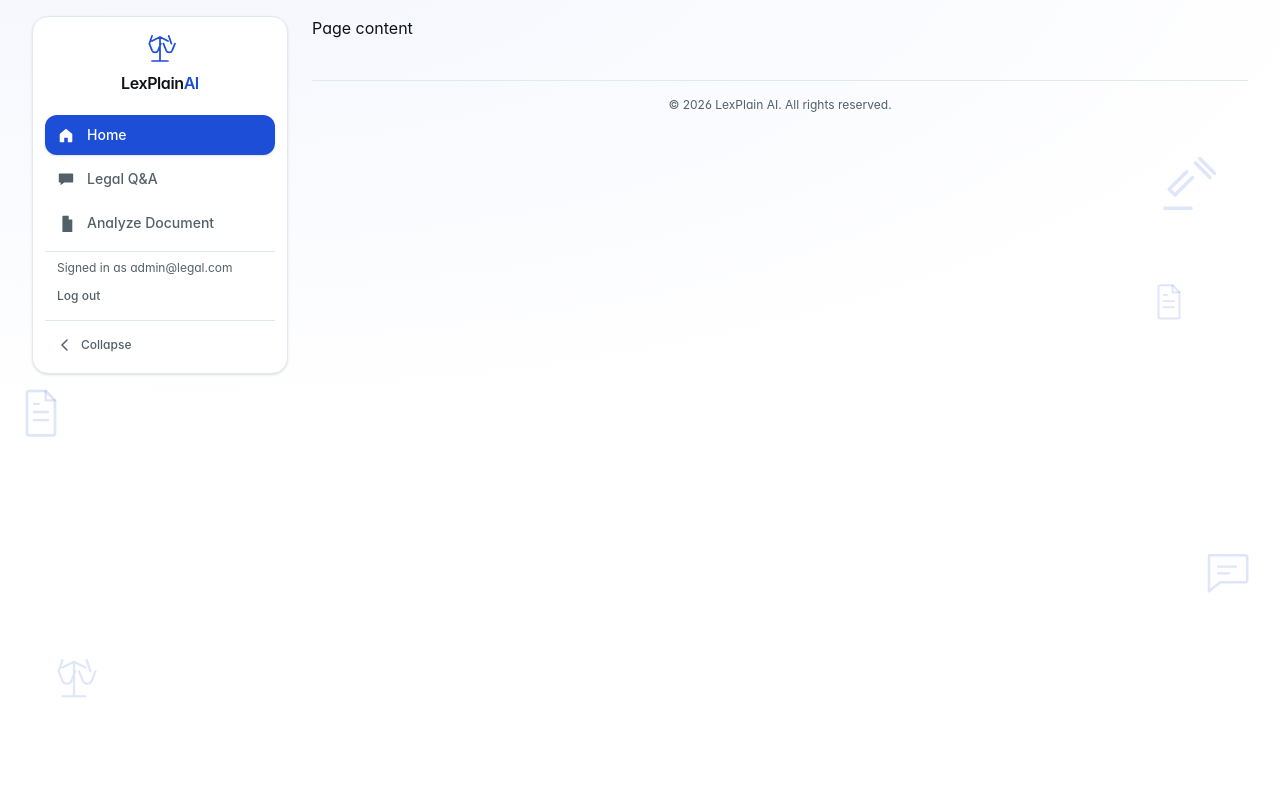
it: Sidebar logout confirmation (authRequired: true) › clicking Log out opens a confirmation dialog instead of logging out immediately
The width and height of the screenshot is (1280, 800).
Click the button "Log out" at (160, 296), box [45,280,275,312]
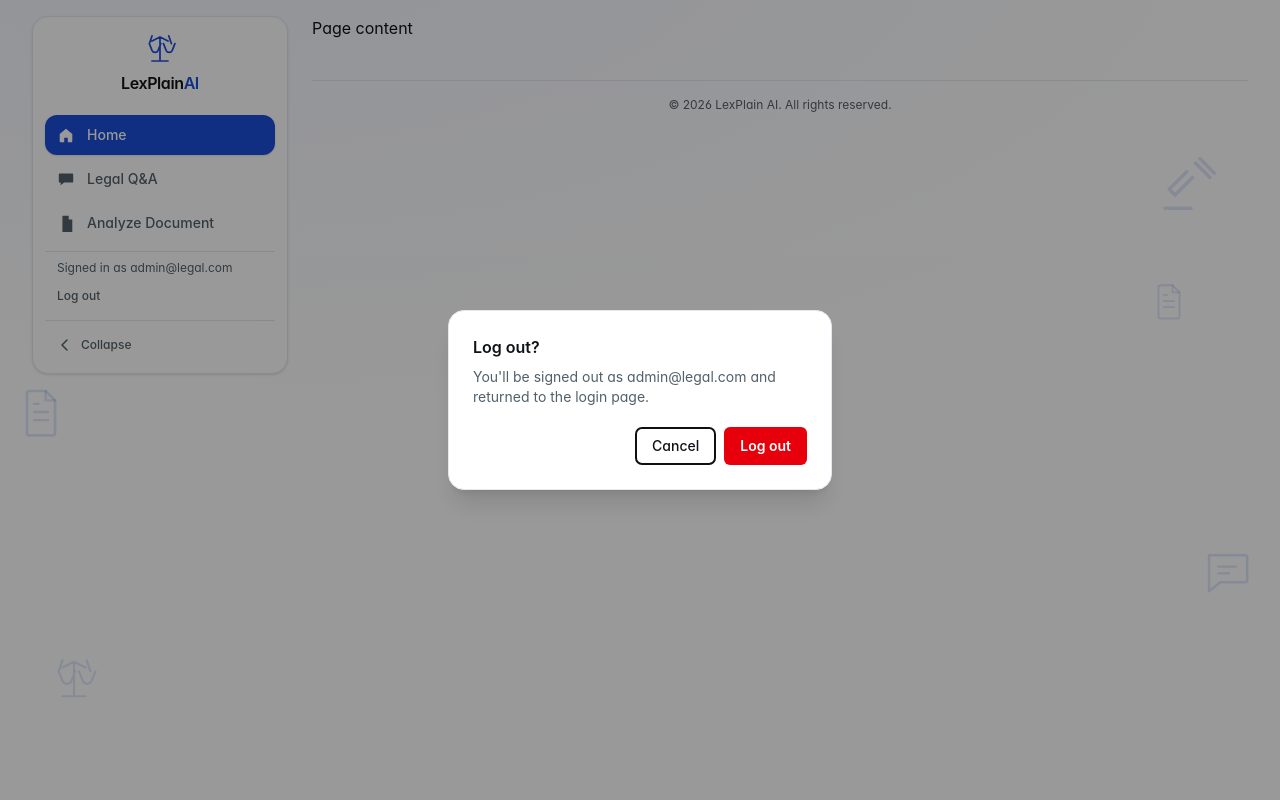
Expected: the dialog "Log out?" is shown, [448,310,832,490]
